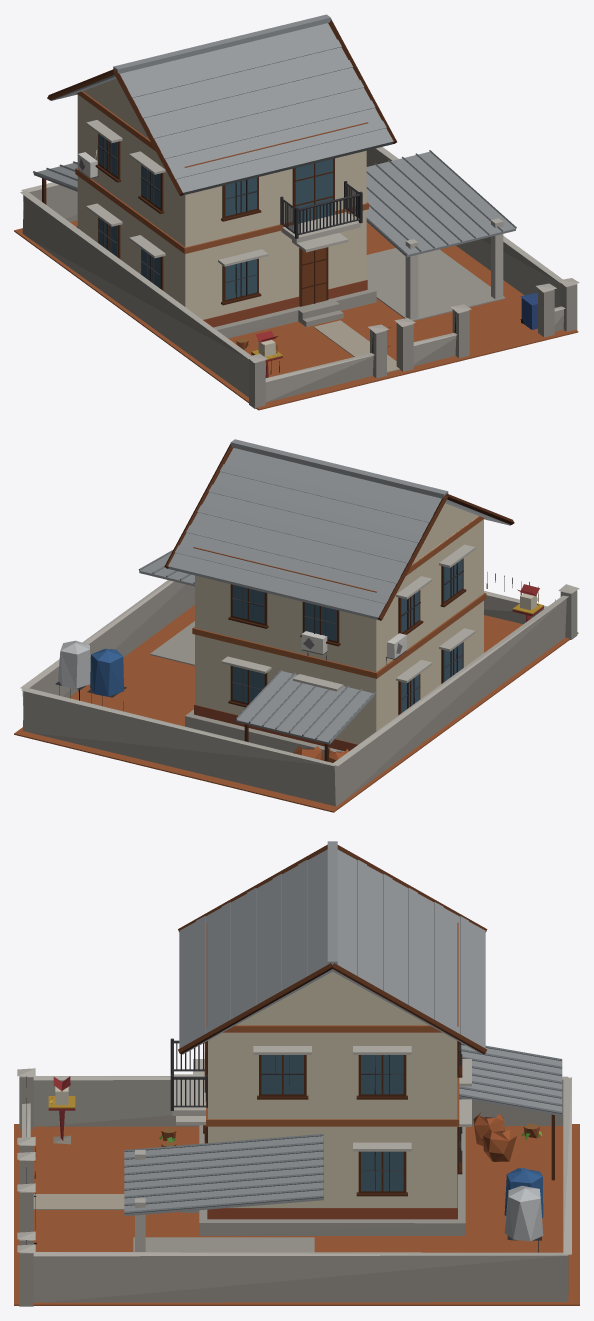
Rendered from house12_2.glb.
The picture shows the model from 3 angles, top to bottom: view 1: azimuth 30°, elevation 25°; view 2: azimuth 150°, elevation 25°; view 3: azimuth 270°, elevation 25°; orthographic projection. The views are drawn at different scales.
Parts seen in each view (by area): view 1: body, windows; view 2: body, windows; view 3: body, windows.
Boxes of the visible parts, bbox=[...] form: body: bbox=[14, 14, 579, 410]; windows: bbox=[99, 134, 332, 300]; body: bbox=[14, 439, 579, 812]; windows: bbox=[232, 559, 462, 713]; body: bbox=[14, 841, 579, 1306]; windows: bbox=[205, 1042, 459, 1191].
Bounding box in the file's own units: 12.4 × 9 × 15.9.
